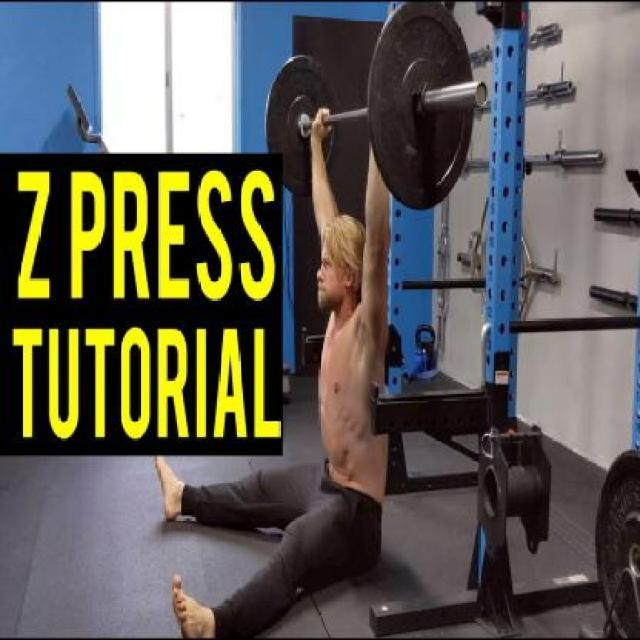barbell: (365, 2, 480, 217)
